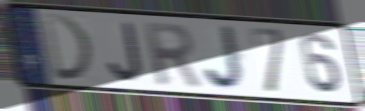6: (299, 32, 343, 96)
7: (249, 25, 286, 96)
D: (39, 12, 97, 83)
J: (201, 23, 249, 92), (105, 19, 145, 84)
R: (140, 19, 204, 89)
